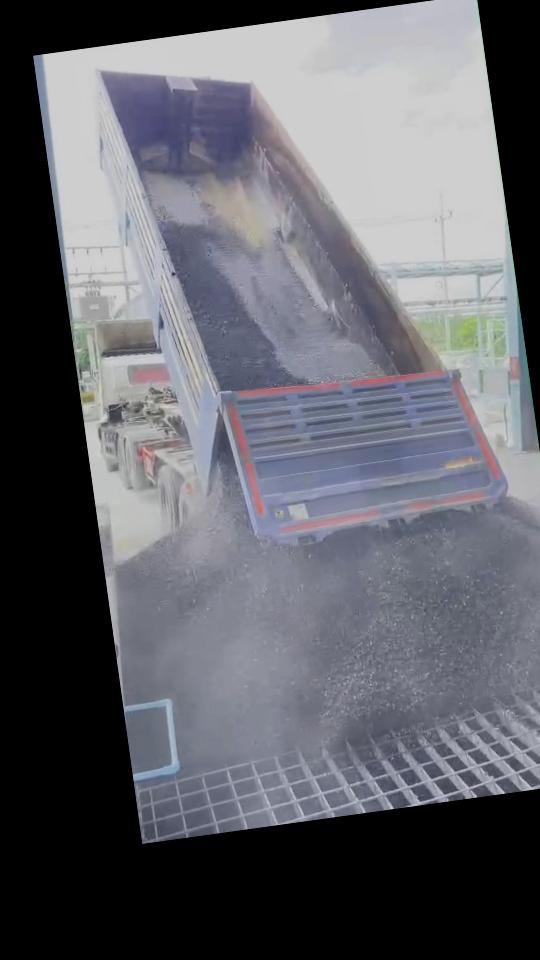gravel: (118, 506, 540, 772), (144, 167, 395, 390), (201, 445, 263, 567), (125, 709, 169, 771)
